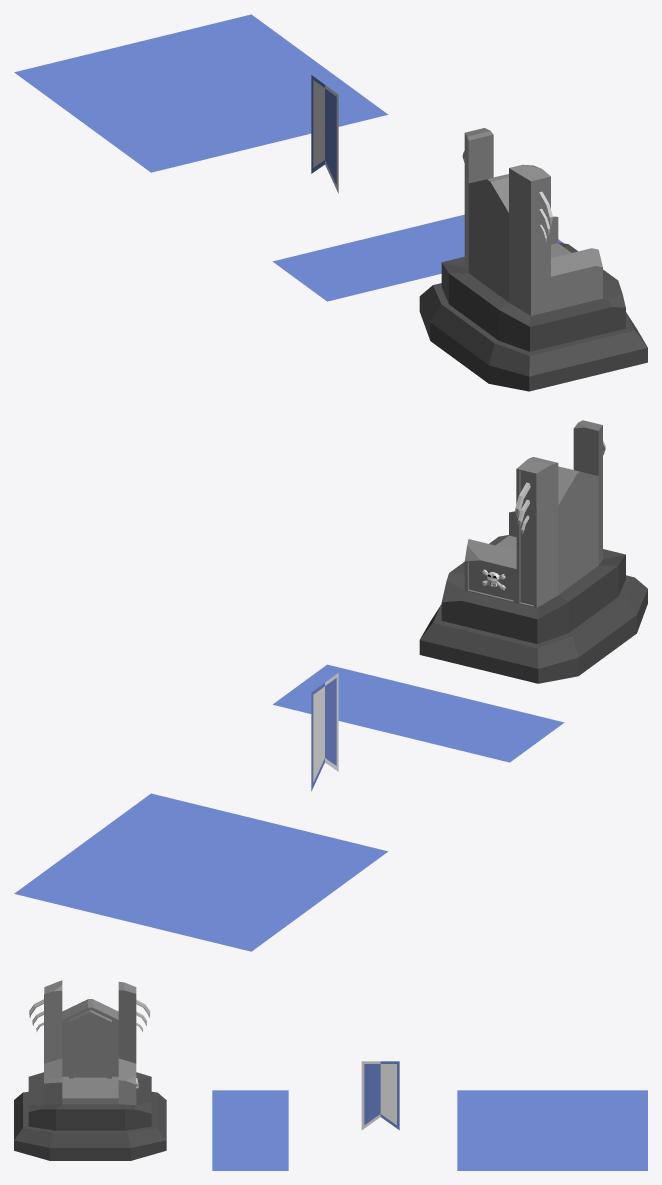
Rendered from LiD_Env2.fbx.
3 views of the same model, one above another, from view 1: azimuth 30°, elevation 25°; view 2: azimuth 150°, elevation 25°; view 3: azimuth 270°, elevation 25° (orthographic). The views are drawn at different scales.
Visible parts, largest first — view 1: kingChair, carpetLarge, carpet, flag; view 2: kingChair, carpetLarge, carpet, flag; view 3: kingChair, carpetLarge, carpet, flag.
Part boxes in pixels (x1=…): kingChair: x1=419, y1=128, x2=647, y2=391; carpetLarge: x1=14, y1=14, x2=388, y2=172; carpet: x1=272, y1=214, x2=563, y2=301; flag: x1=311, y1=75, x2=338, y2=193; kingChair: x1=419, y1=420, x2=647, y2=683; carpetLarge: x1=14, y1=793, x2=387, y2=951; carpet: x1=273, y1=664, x2=564, y2=762; flag: x1=311, y1=673, x2=338, y2=791; kingChair: x1=14, y1=980, x2=166, y2=1160; carpetLarge: x1=457, y1=1090, x2=647, y2=1170; carpet: x1=212, y1=1090, x2=288, y2=1170; flag: x1=361, y1=1061, x2=399, y2=1130.
Bounding box in the file's own units: 5 × 4.06 × 16.63.
